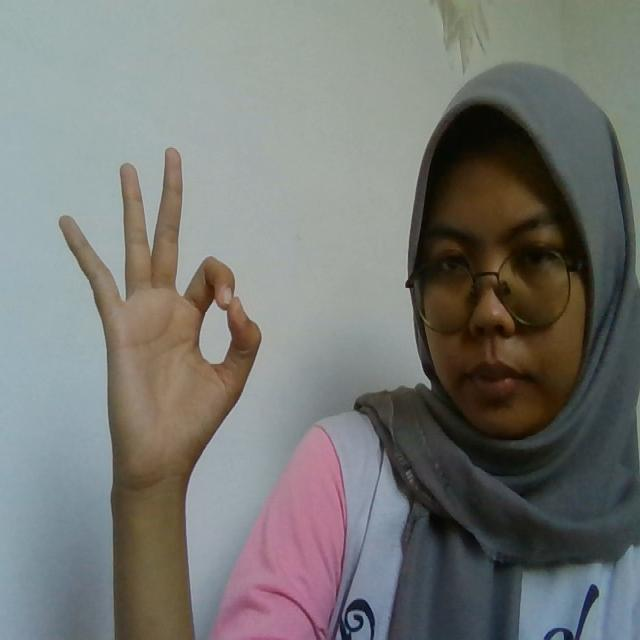F: (60, 148, 264, 481)
